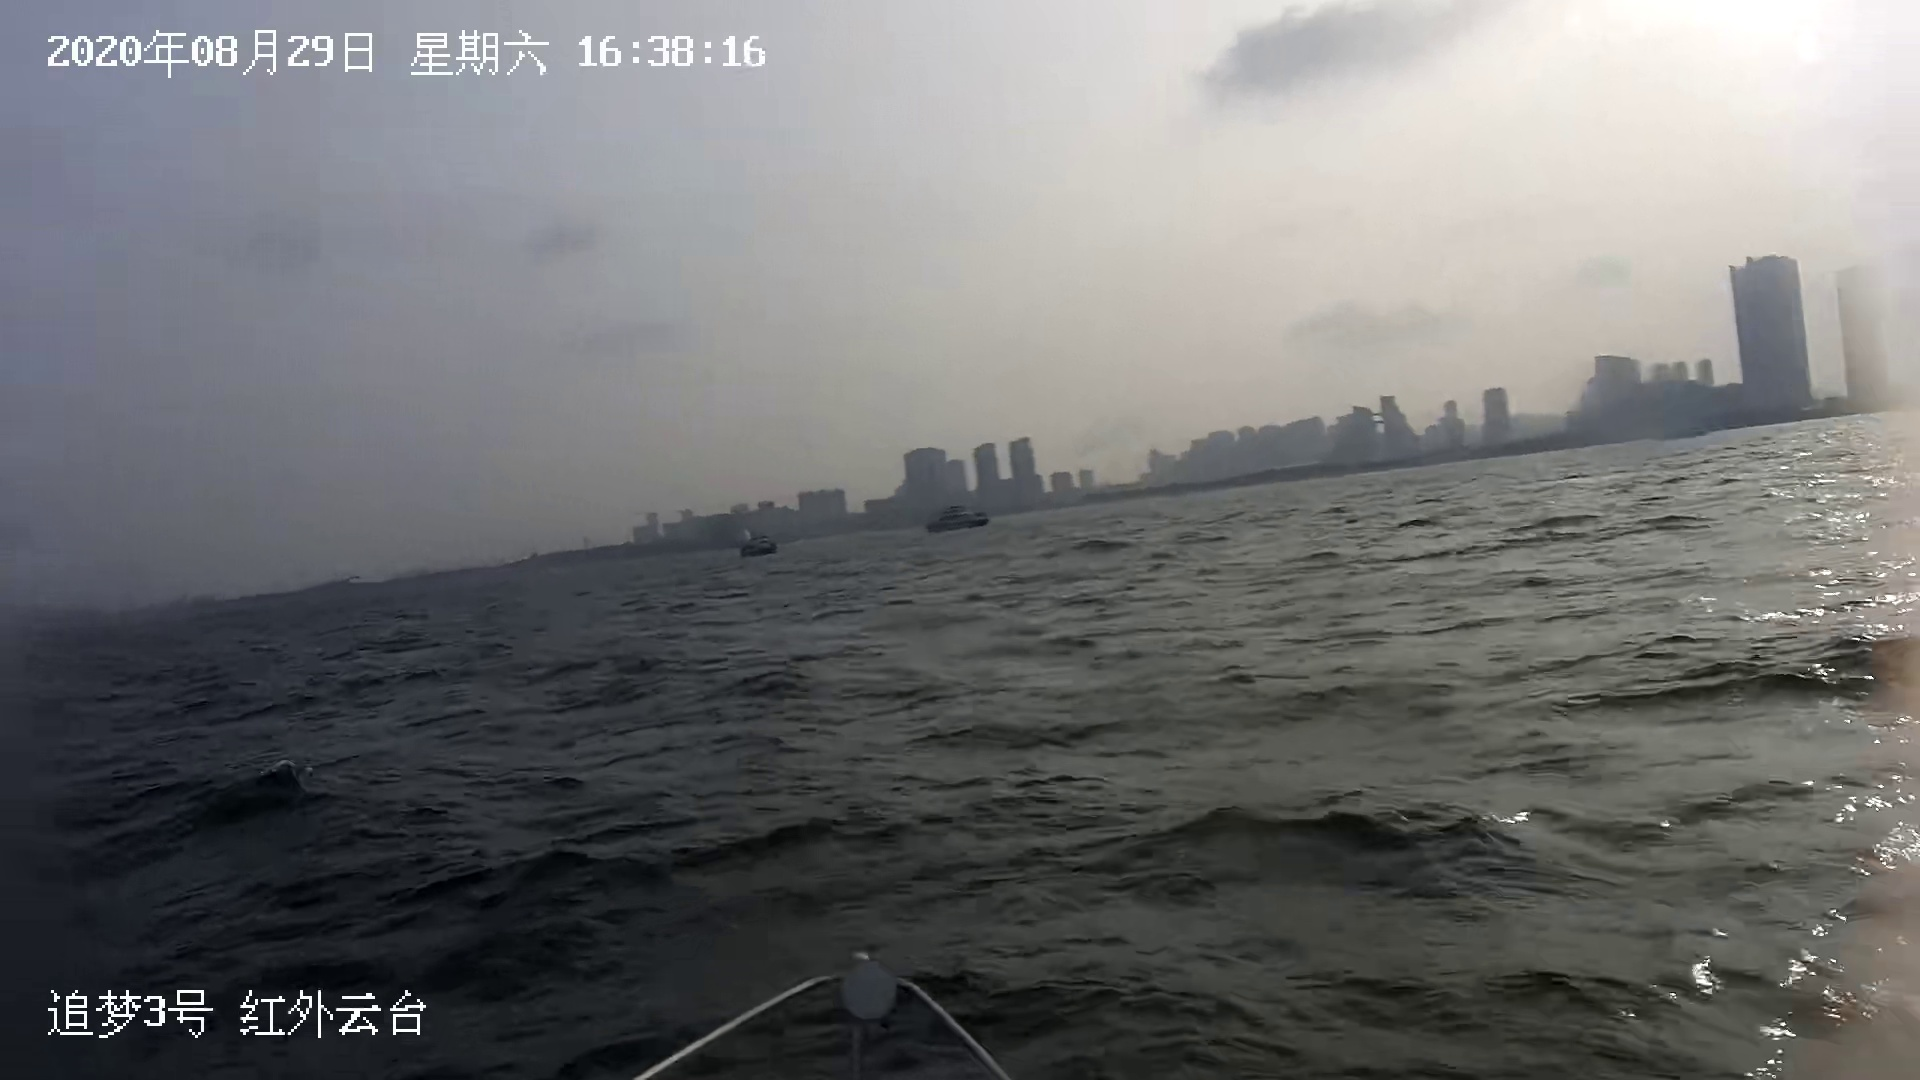barrier: (927, 502, 988, 531), (742, 535, 781, 555)
coast: (377, 249, 1919, 584)
this: (632, 956, 1021, 1079)
